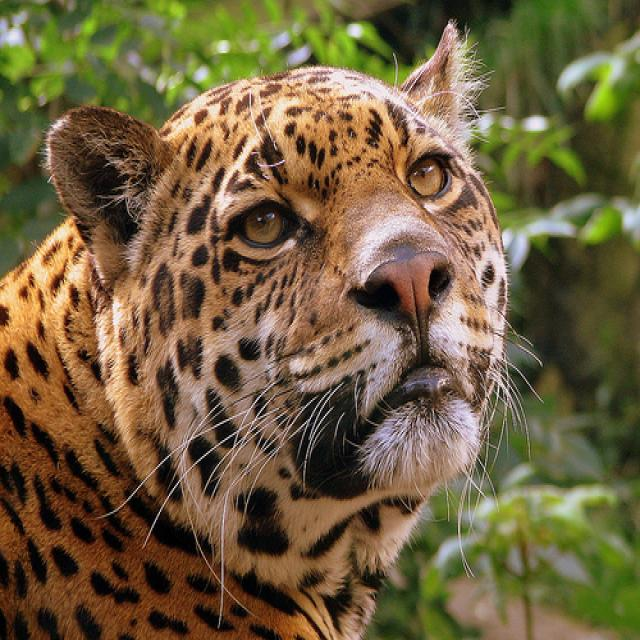Leopard: (0, 9, 543, 636)
